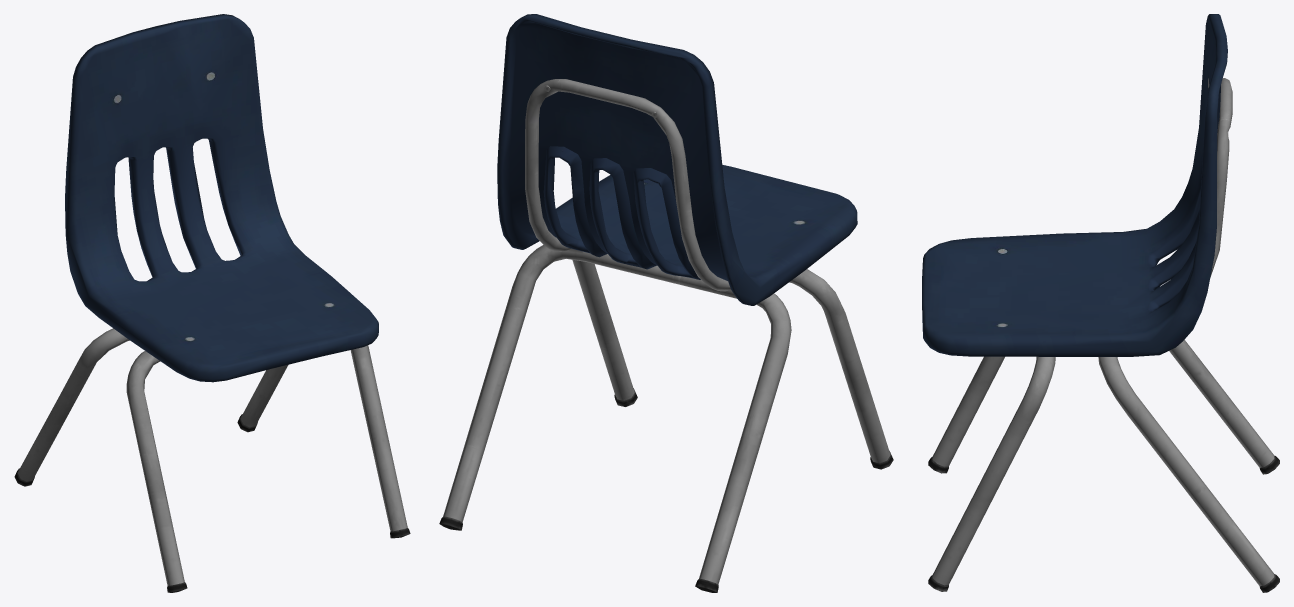
File: SchoolChair_01.glb
The picture shows the model from 3 angles, left to right: view 1: azimuth 30°, elevation 25°; view 2: azimuth 150°, elevation 25°; view 3: azimuth 270°, elevation 25°; orthographic projection. The views are drawn at different scales.
Parts seen in each view (by area): view 1: SchoolChair_01; view 2: SchoolChair_01; view 3: SchoolChair_01.
Boxes of the visible parts, x1,y1,x2,y2 form: SchoolChair_01: (14,14,410,592); SchoolChair_01: (439,14,893,592); SchoolChair_01: (922,14,1279,592).
Bounding box in the file's own units: 0.5659 × 1 × 0.6733.
1 material, 1 textured.
